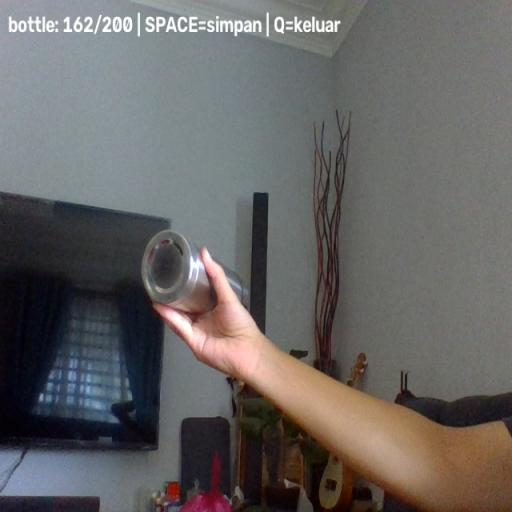Bottle: (142, 229, 248, 314)
